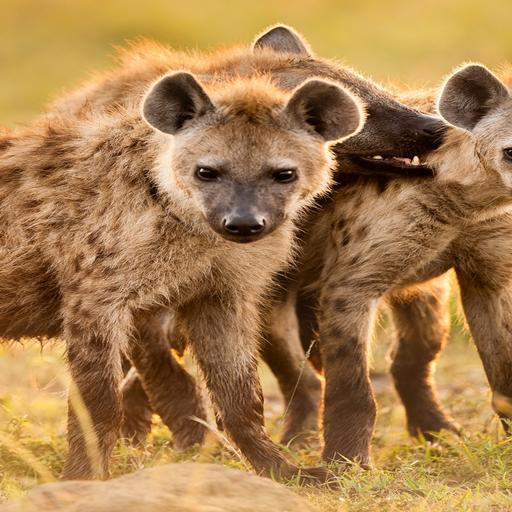Hyena: (0, 22, 453, 465), (0, 69, 368, 499), (179, 53, 512, 464)
